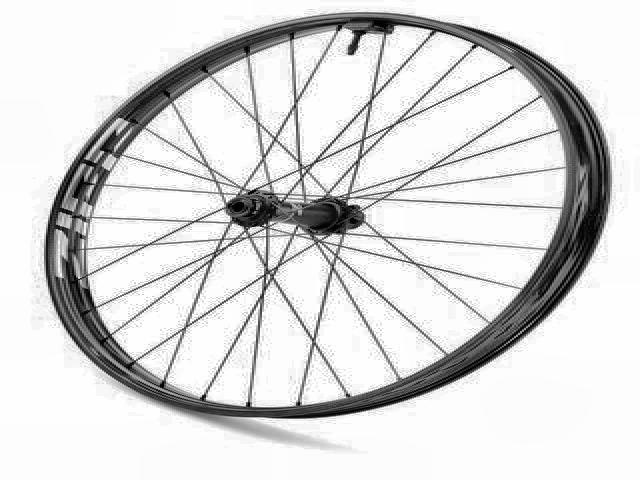wheel: (34, 8, 611, 428)
